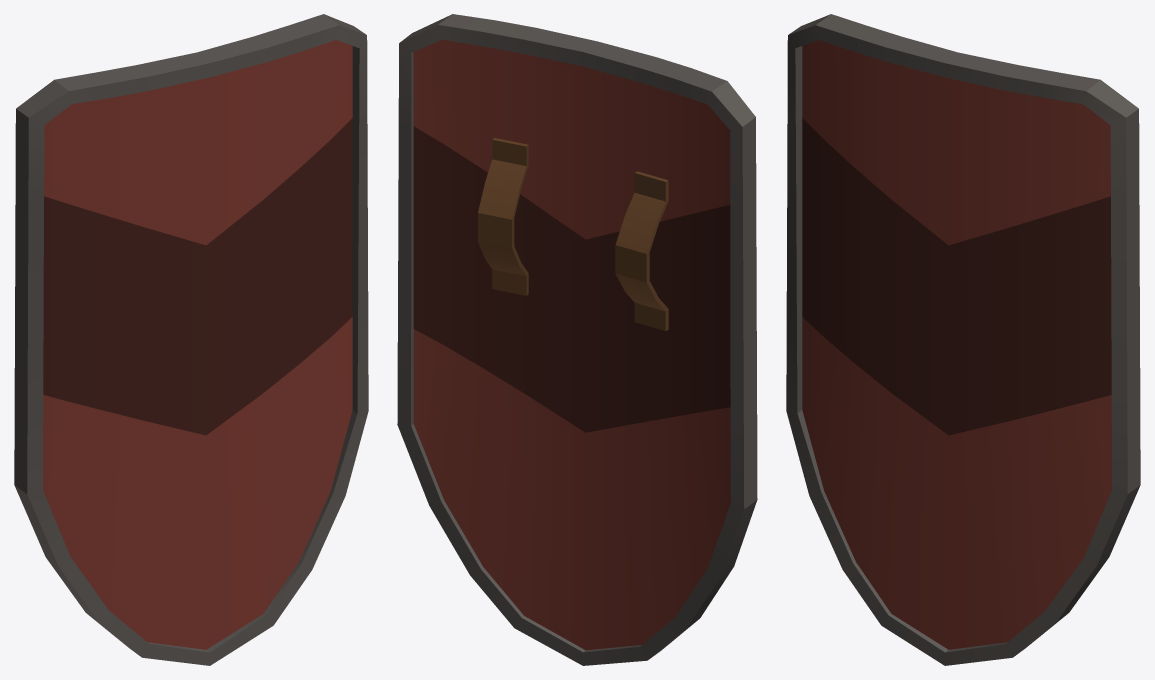
File: Heater Shield_Red.fbx
3 renders of one model, left to right at view 1: azimuth 30°, elevation 25°; view 2: azimuth 150°, elevation 25°; view 3: azimuth 330°, elevation 25°, orthographic.
Visible parts, largest first — view 1: Heater Shield_Red; view 2: Heater Shield_Red; view 3: Heater Shield_Red.
Part boxes in pixels (x1,y1,x2,y2): Heater Shield_Red: (14, 14, 368, 665); Heater Shield_Red: (397, 14, 757, 665); Heater Shield_Red: (786, 14, 1140, 665).
Size of the model in its own units: 49.83 by 84.28 by 8.78.
Materials: 1 (1 with a texture image).
